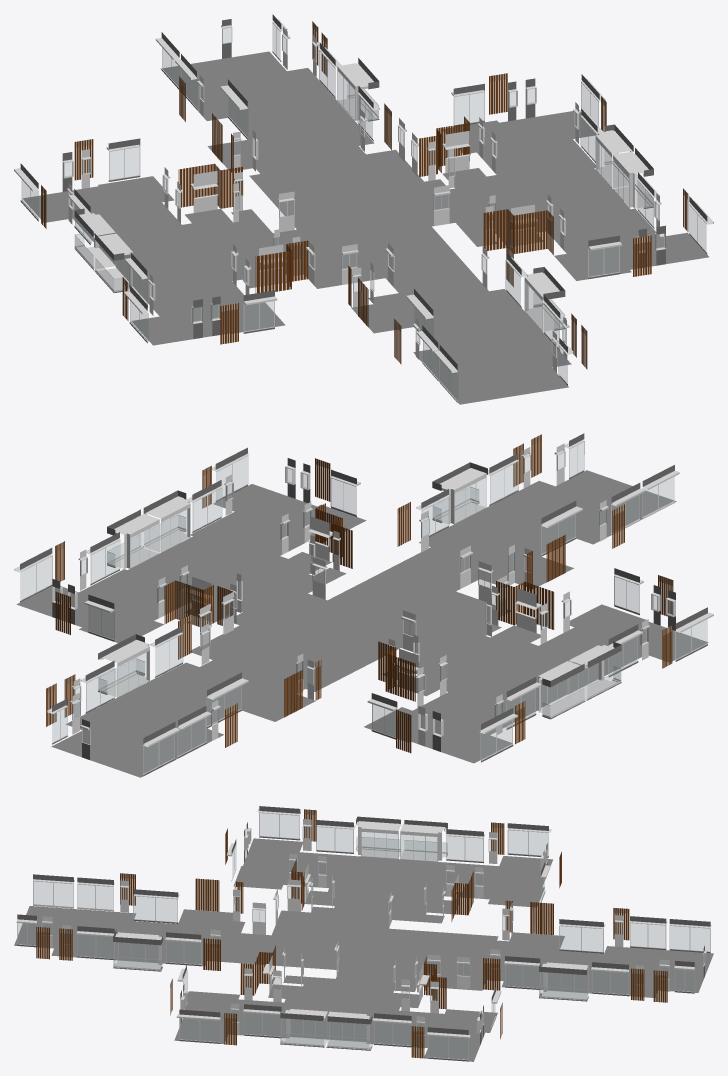
The model's file is 01_SM_T1_TypicalFloor.glb.
3 renders of one model, top to bottom at view 1: azimuth 30°, elevation 25°; view 2: azimuth 150°, elevation 25°; view 3: azimuth 270°, elevation 25°, orthographic. The views are drawn at different scales.
Parts seen in each view (by area): view 1: SM_Tower_01_TypicalFloor; view 2: SM_Tower_01_TypicalFloor; view 3: SM_Tower_01_TypicalFloor.
Part boxes in pixels (<box>): SM_Tower_01_TypicalFloor: <box>14,14,713,404</box>; SM_Tower_01_TypicalFloor: <box>14,433,713,777</box>; SM_Tower_01_TypicalFloor: <box>14,806,713,1061</box>.
Size of the model in its own units: 2.37 by 0.1526 by 3.07.
6 materials, 1 textured.
